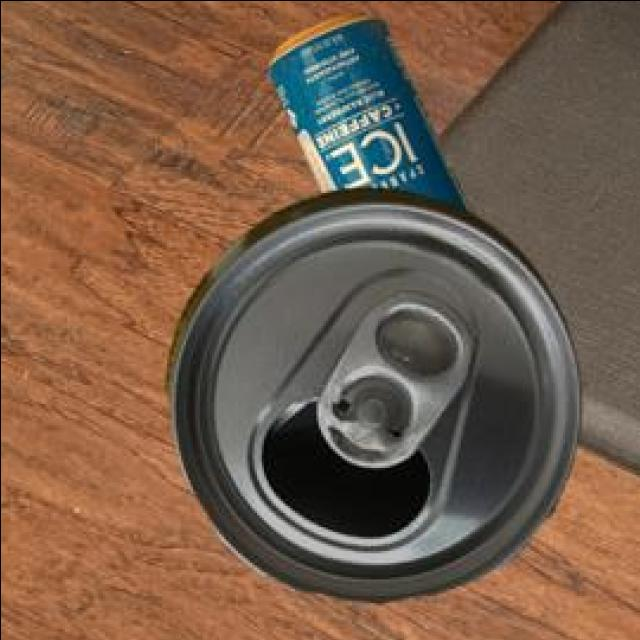logam: (162, 184, 577, 599), (264, 8, 468, 210)
